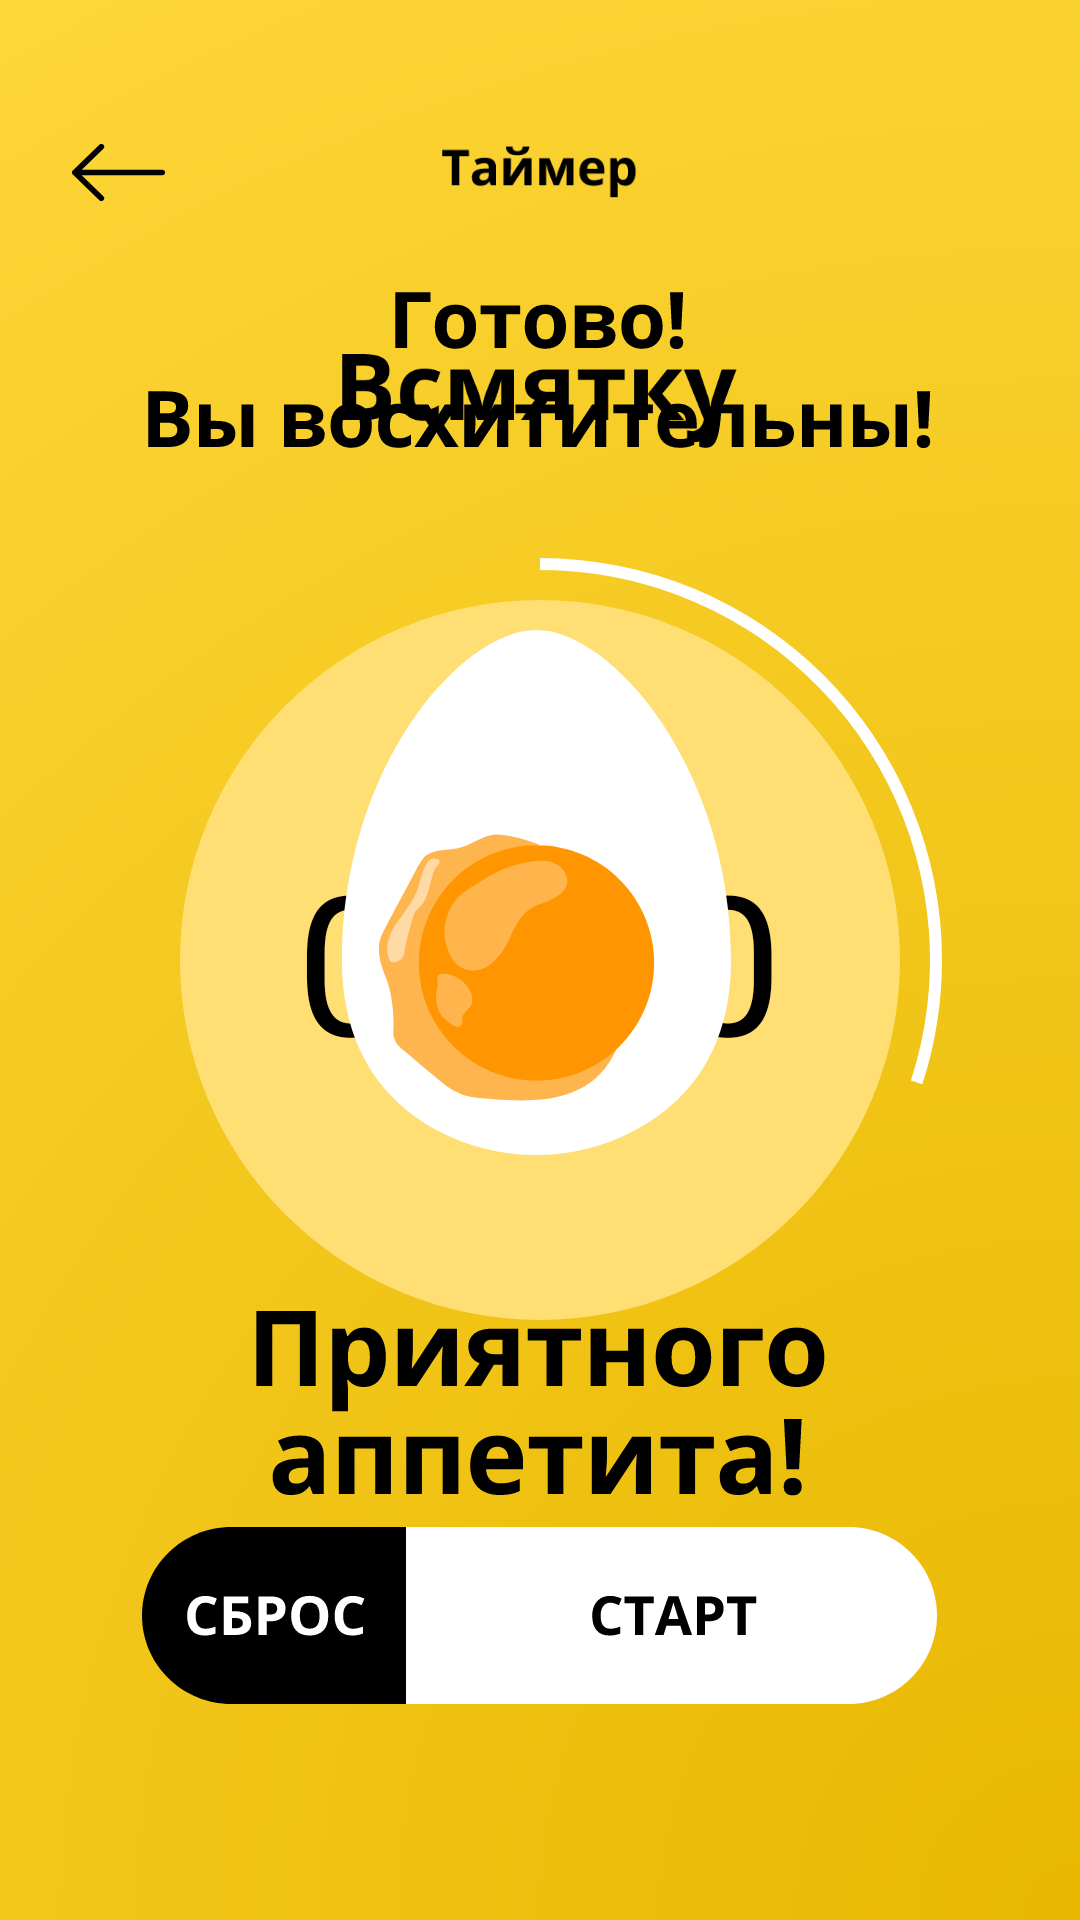

Named icons in this screenshot (1080px x 1920px) and their bounding boxes, (x1, y1, x2, y2):
back: (72, 144, 165, 201)
